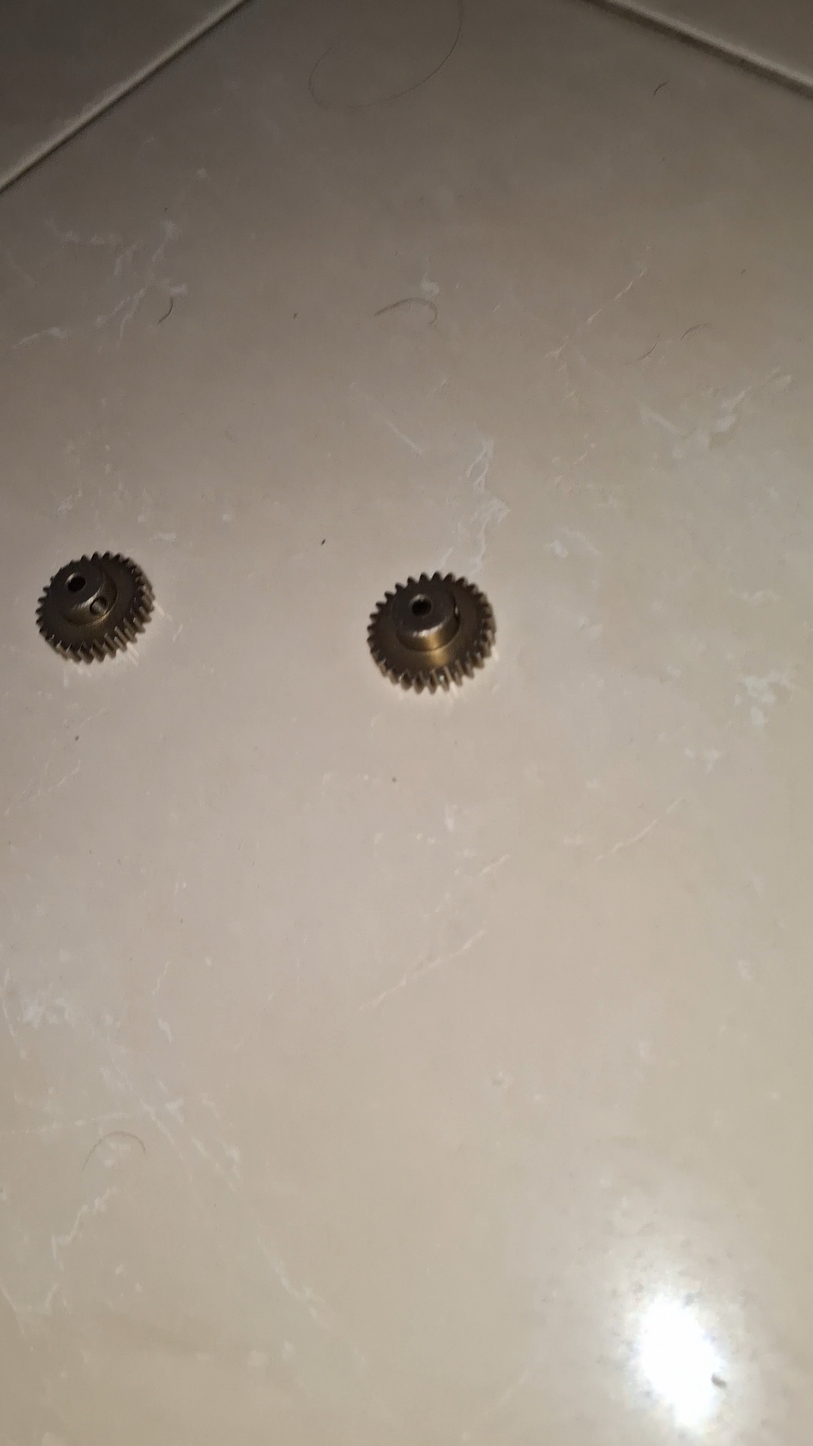spur gear: (368, 572, 495, 691), (37, 552, 153, 662)
